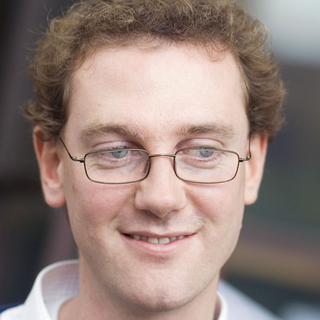eye: (177, 135, 226, 167), (93, 141, 140, 164)
